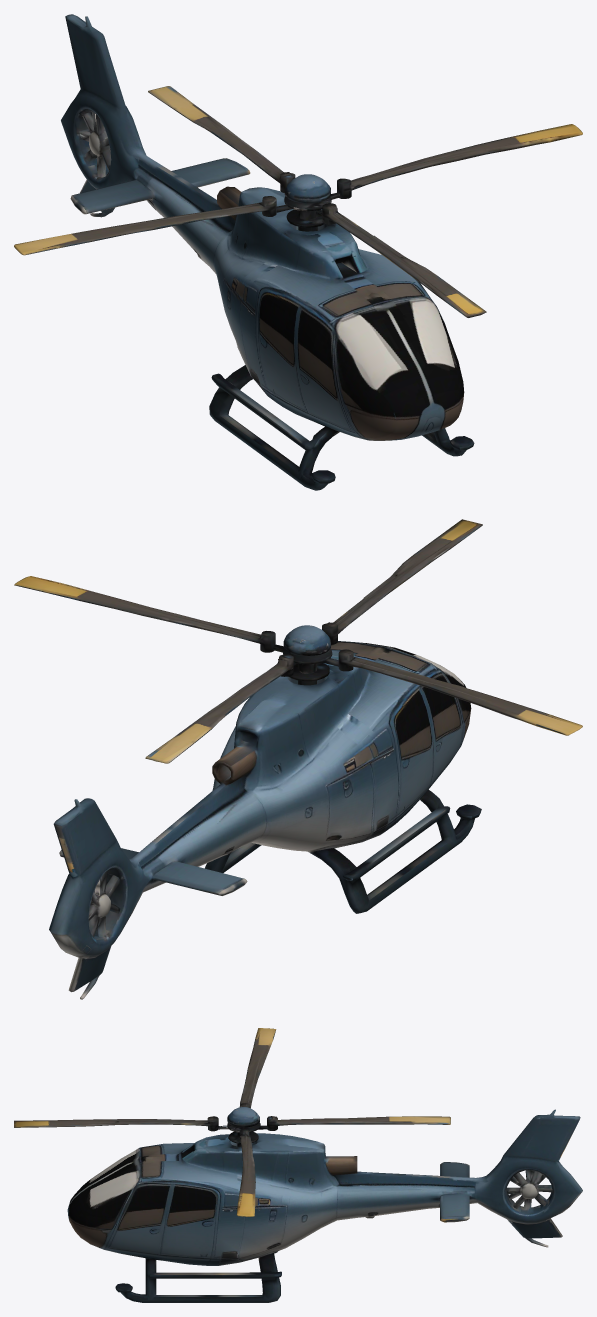
The model's file is halicopter_realistic_style_e49e9af4_v4.glb.
The picture shows the model from 3 angles, top to bottom: view 1: azimuth 30°, elevation 25°; view 2: azimuth 150°, elevation 25°; view 3: azimuth 270°, elevation 25°; orthographic projection. The views are drawn at different scales.
Visible parts, largest first — view 1: texture_pbr_20250901; view 2: texture_pbr_20250901; view 3: texture_pbr_20250901.
Part boxes in pixels (x1=…): texture_pbr_20250901: x1=14, y1=14, x2=582, y2=490; texture_pbr_20250901: x1=14, y1=519, x2=582, y2=999; texture_pbr_20250901: x1=14, y1=1028, x2=582, y2=1302.
Size of the model in its own units: 1.49 by 0.6256 by 1.91.
Materials: 1 (1 with a texture image).
